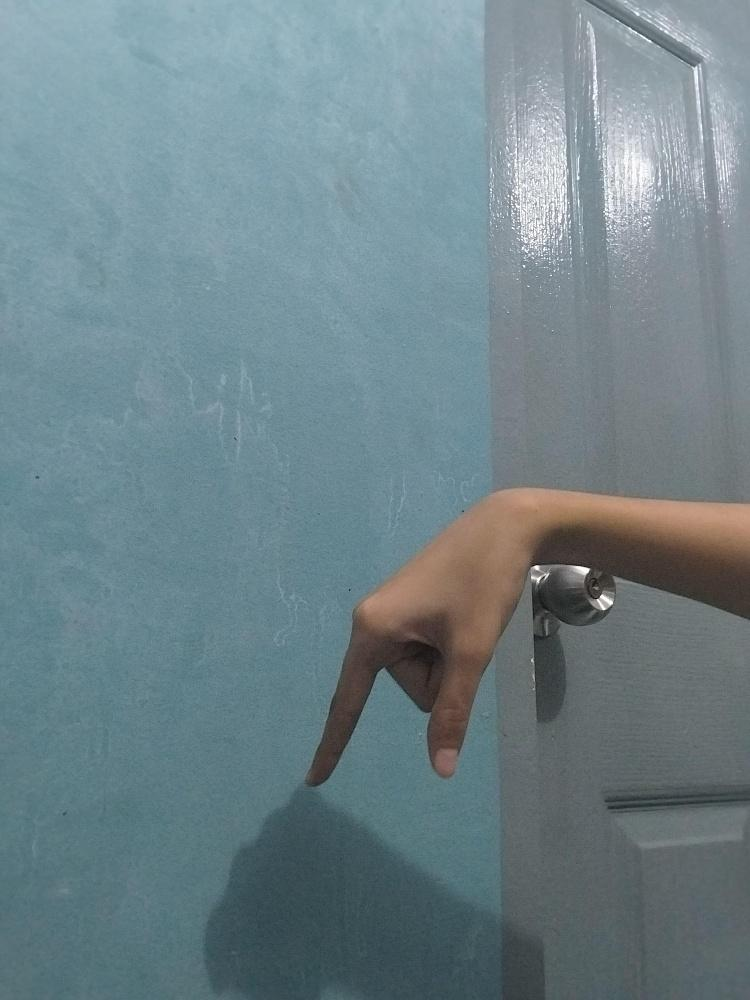q: (299, 485, 528, 785)
